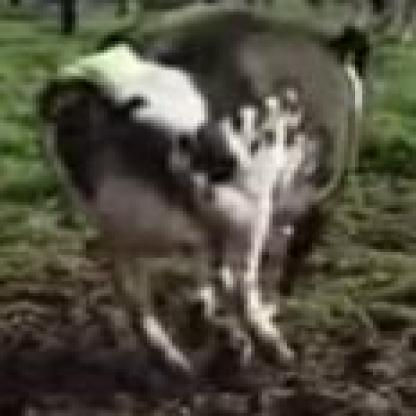cow: (36, 8, 373, 386)
